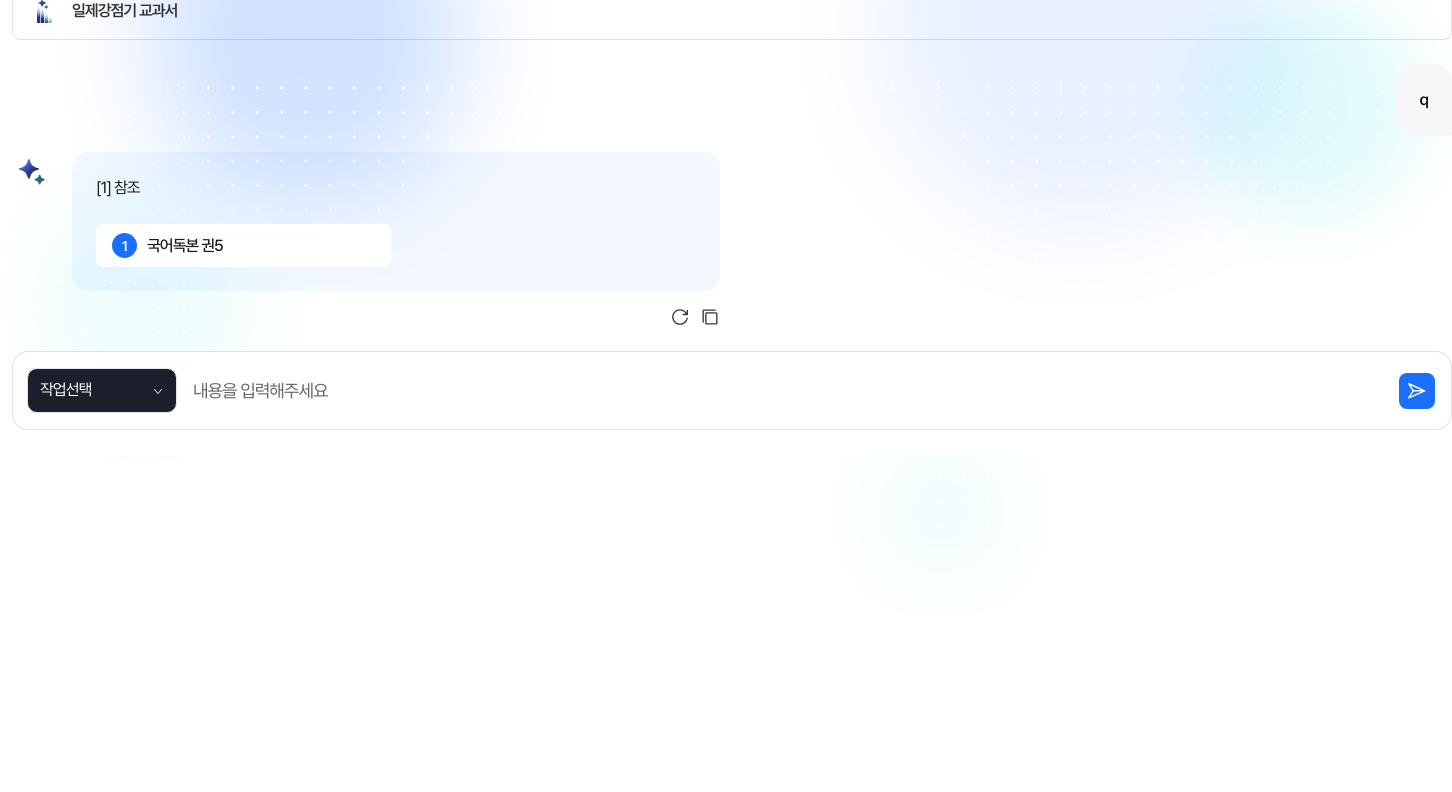
Test case: 설명문 생성(채팅 인라인, round07f 대화 턴) › 답변이 있으면 작업선택으로 폼 턴을 열 수 있고 참고자료 건수를 말한다
Expected: the button "생성하기" is not shown
Click the button "작업선택". click: [102, 390]
box: [27,368,177,413]
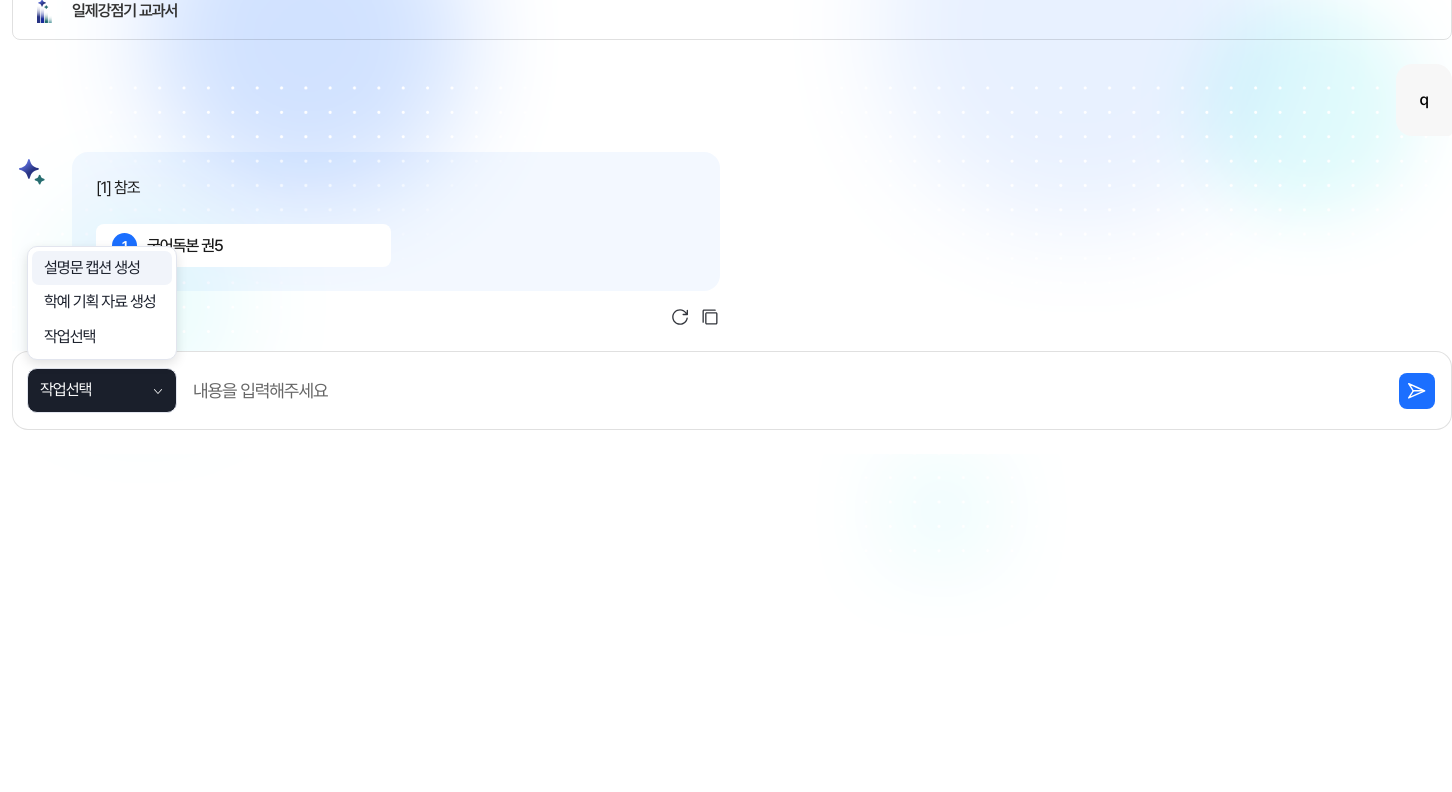
Click the option "설명문 캡션 생성". click: [102, 268]
box: [32,251,172,285]
(page scrolled)
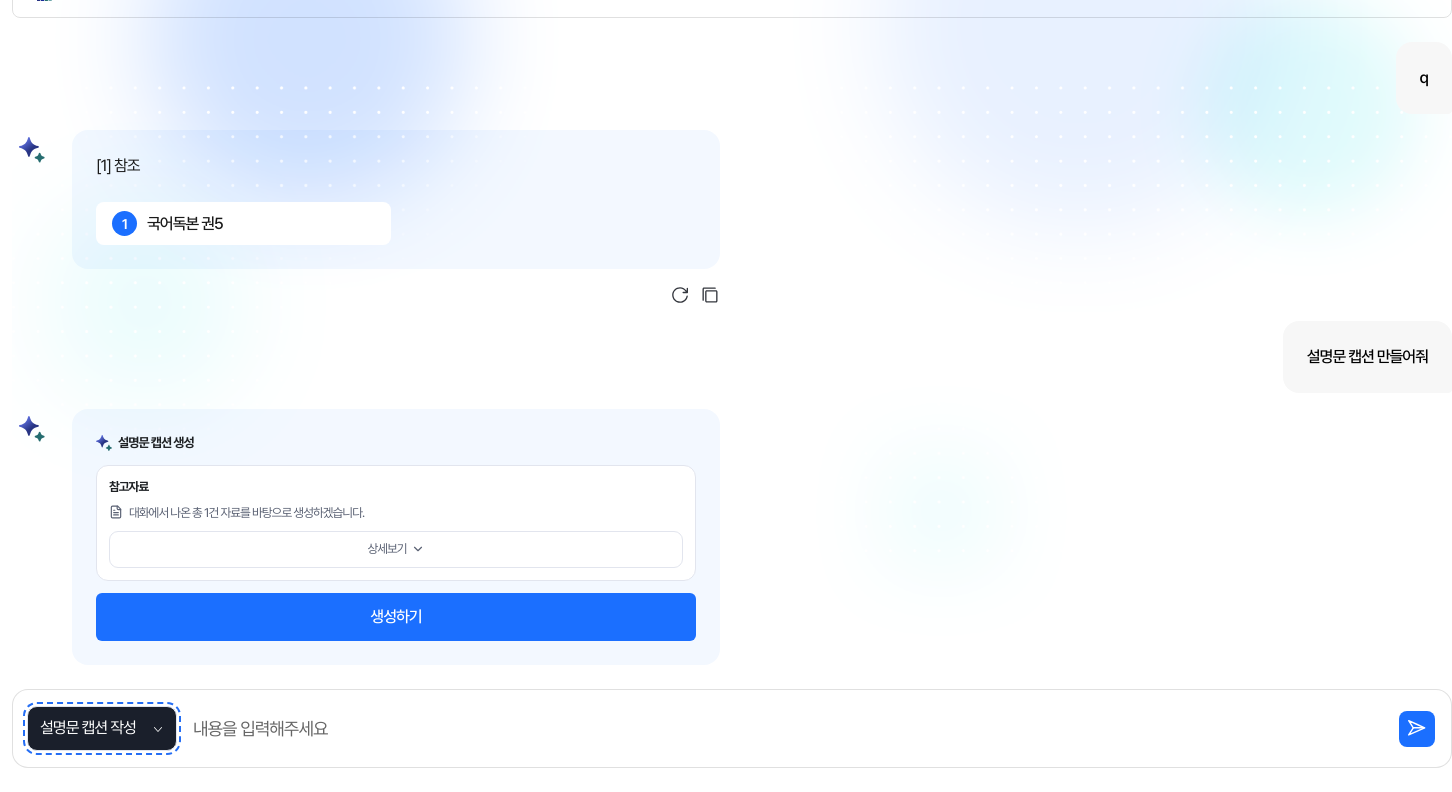
Expected: the text "설명문 캡션 만들어줘" is shown, [1283,321,1451,393]
Expected: the button "생성하기" is shown, [96,593,696,641]
Expected: the text "대화에서 나온 총 1건 자료를 바탕으로 생성하겠습니다." is shown, [109,505,364,520]
